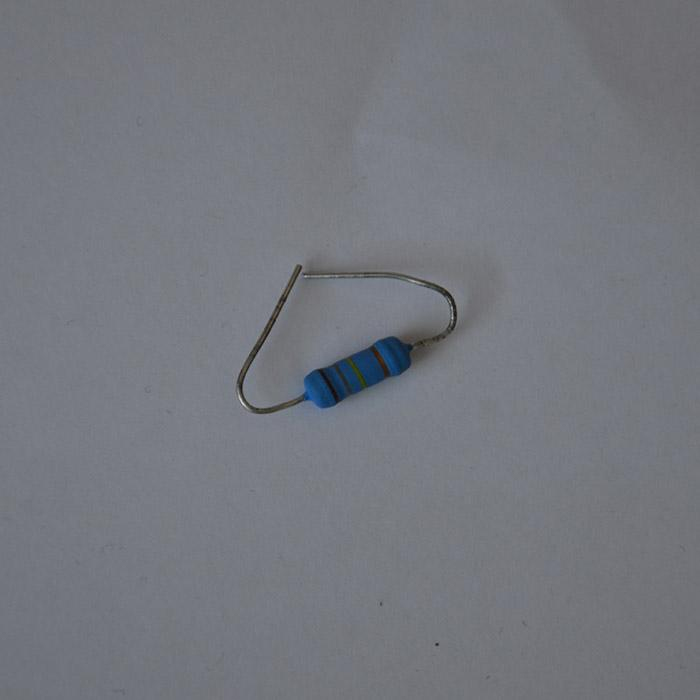resistor: (300, 335, 415, 409)
